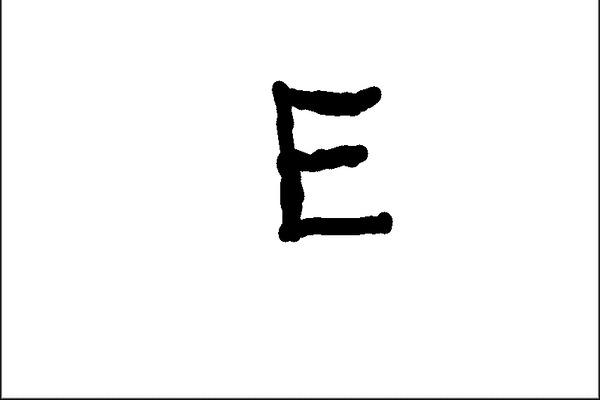E: (266, 76, 399, 243)
